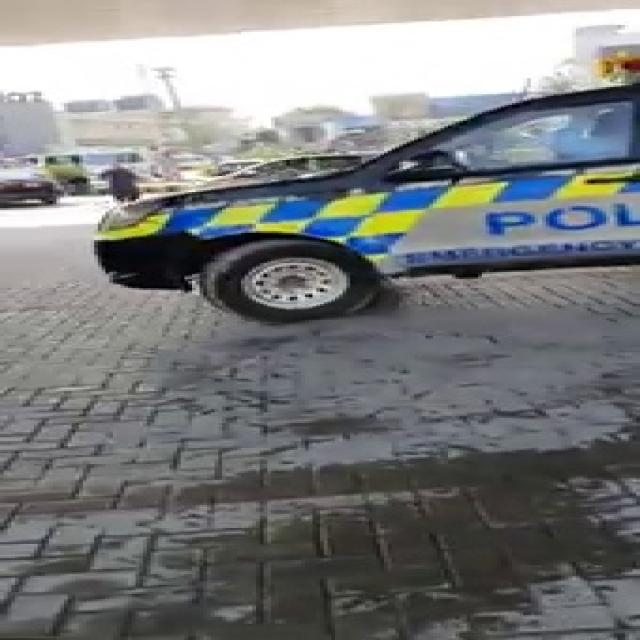police: (22, 26, 640, 278)
